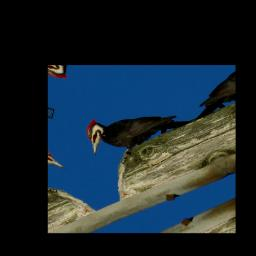Woodpecker: (74, 84, 197, 170)
